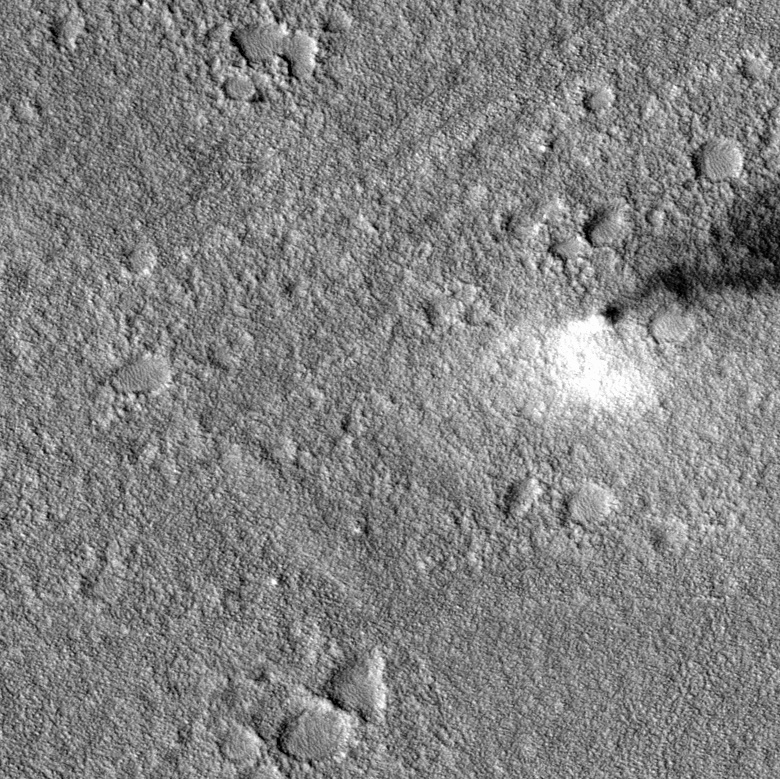dust_devil: (547, 182, 780, 419)
